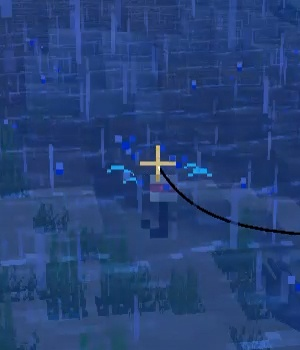up: (137, 167, 185, 240)
